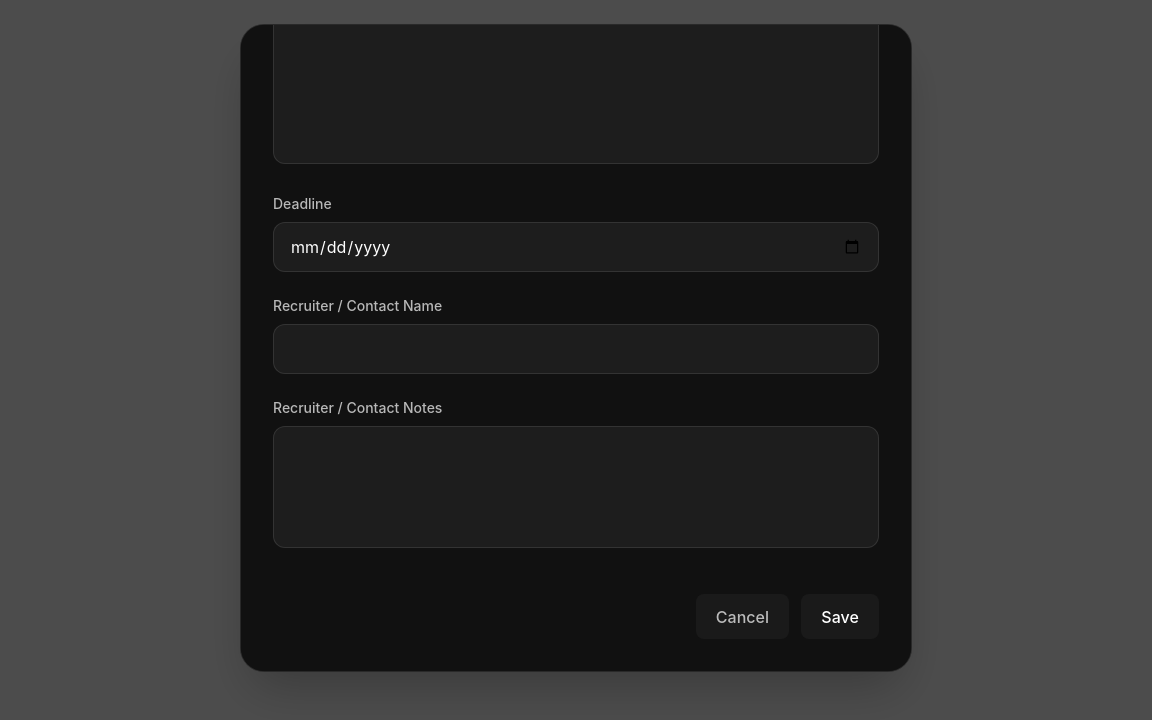
it: JobFormModal › shows validation errors and does not submit when fields are empty
The width and height of the screenshot is (1152, 720).
(page scrolled)
Click the button "Save" at (840, 617), box [801,594,879,639]
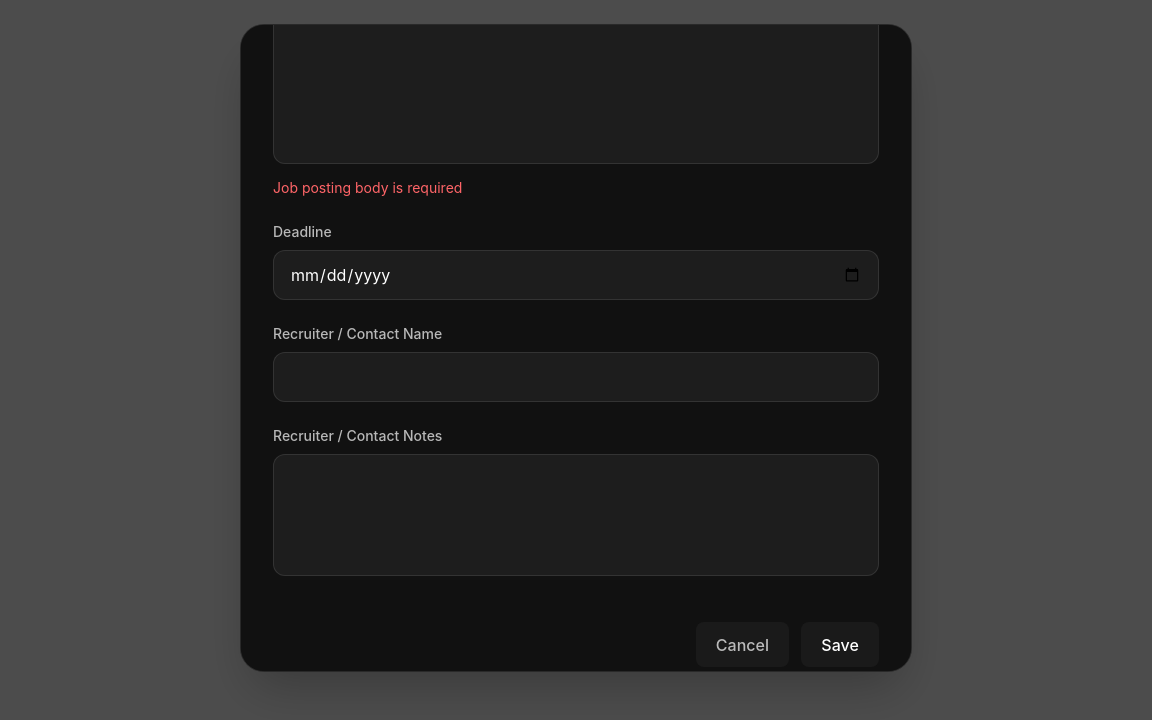
Result: the text "Job posting body is required" is shown at [273,179,462,196]
